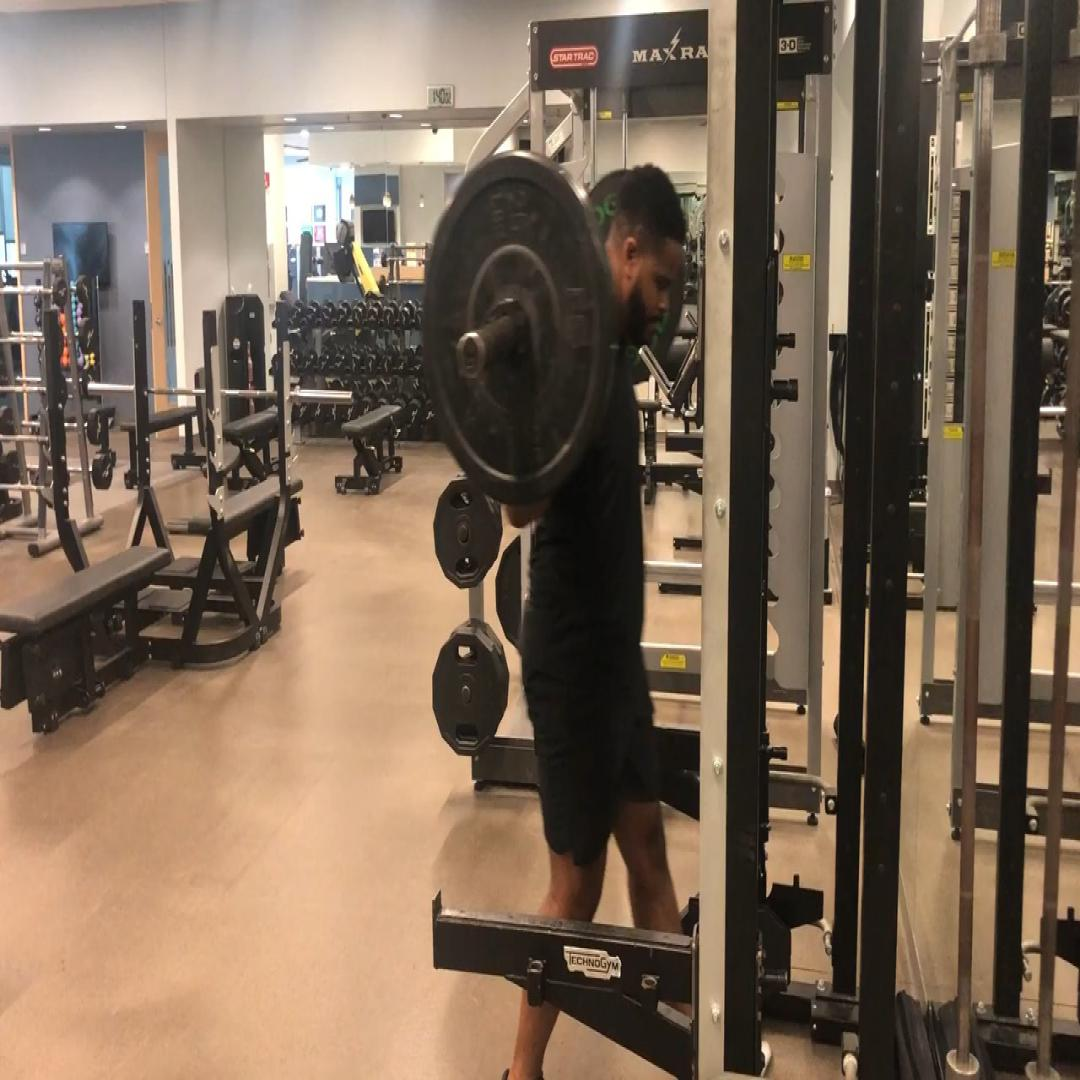Bar: (455, 329, 486, 381)
Barbell: (421, 148, 609, 506)
